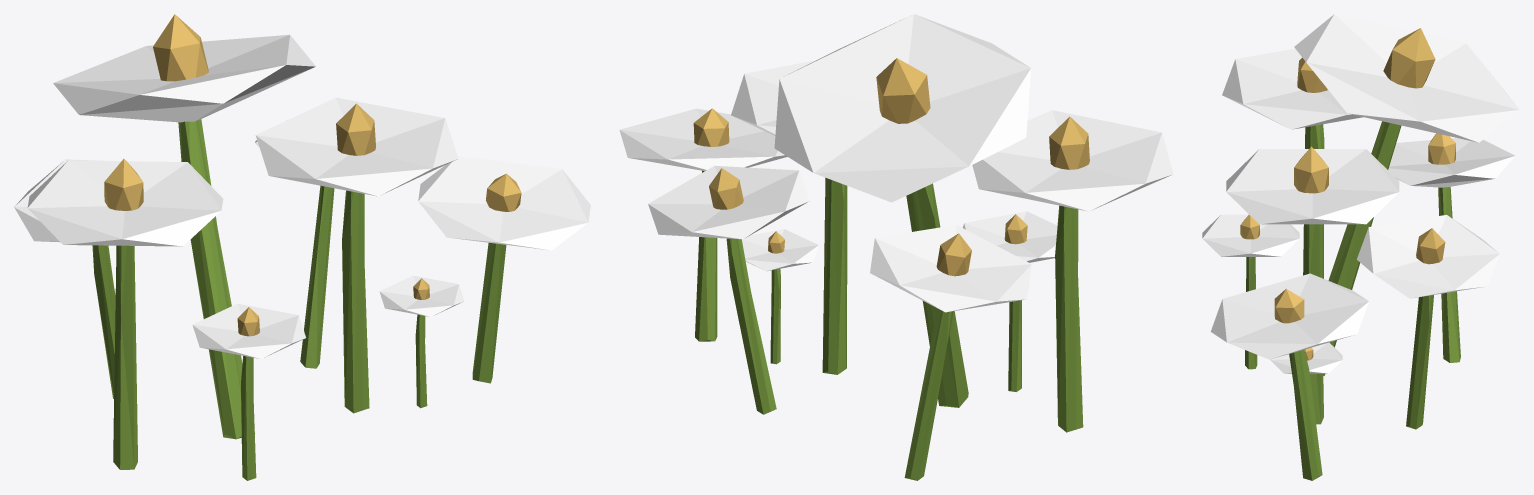
File: Flower_02.fbx
The picture shows the model from 3 angles, left to right: view 1: azimuth 30°, elevation 25°; view 2: azimuth 150°, elevation 25°; view 3: azimuth 270°, elevation 25°; orthographic projection. The views are drawn at different scales.
Visible parts, largest first — view 1: Flower_02; view 2: Flower_02; view 3: Flower_02.
Part boxes in pixels (box(x1,y1,x2,y2)): Flower_02: box(14, 14, 590, 480); Flower_02: box(619, 14, 1173, 480); Flower_02: box(1202, 14, 1519, 480).
Bounding box in the file's own units: 24.29 × 17.2 × 14.18.
